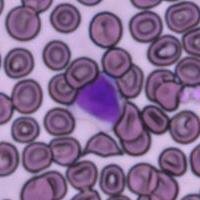L: (72, 72, 125, 127)
